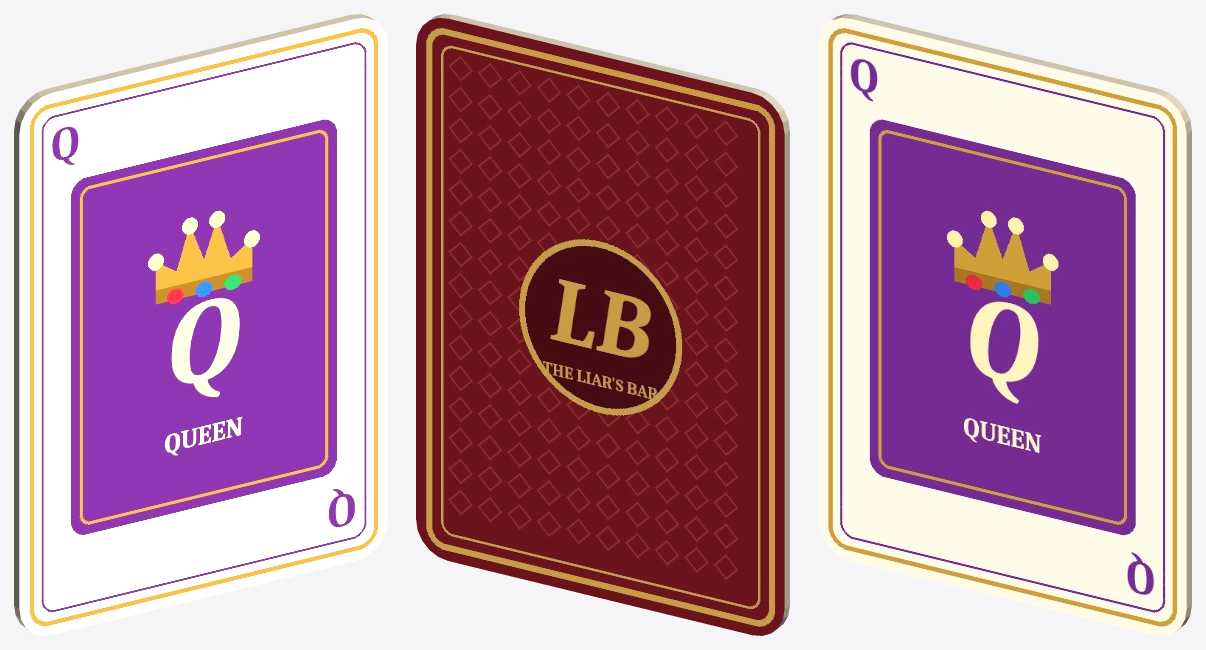
The model's file is lb4_card_q.glb.
The picture shows the model from 3 angles, left to right: view 1: azimuth 30°, elevation 25°; view 2: azimuth 150°, elevation 25°; view 3: azimuth 330°, elevation 25°; orthographic projection.
Visible parts, largest first — view 1: lb4_card_q; view 2: lb4_card_q; view 3: lb4_card_q.
Boxes of the visible parts, bbox=[...] form: lb4_card_q: bbox=[14, 14, 387, 635]; lb4_card_q: bbox=[416, 14, 789, 635]; lb4_card_q: bbox=[818, 14, 1191, 635].
Size of the model in its own units: 0.32 by 0.45 by 0.008.
Materials: 3 (2 with a texture image).
